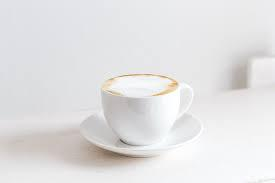cup: (101, 73, 193, 145)
